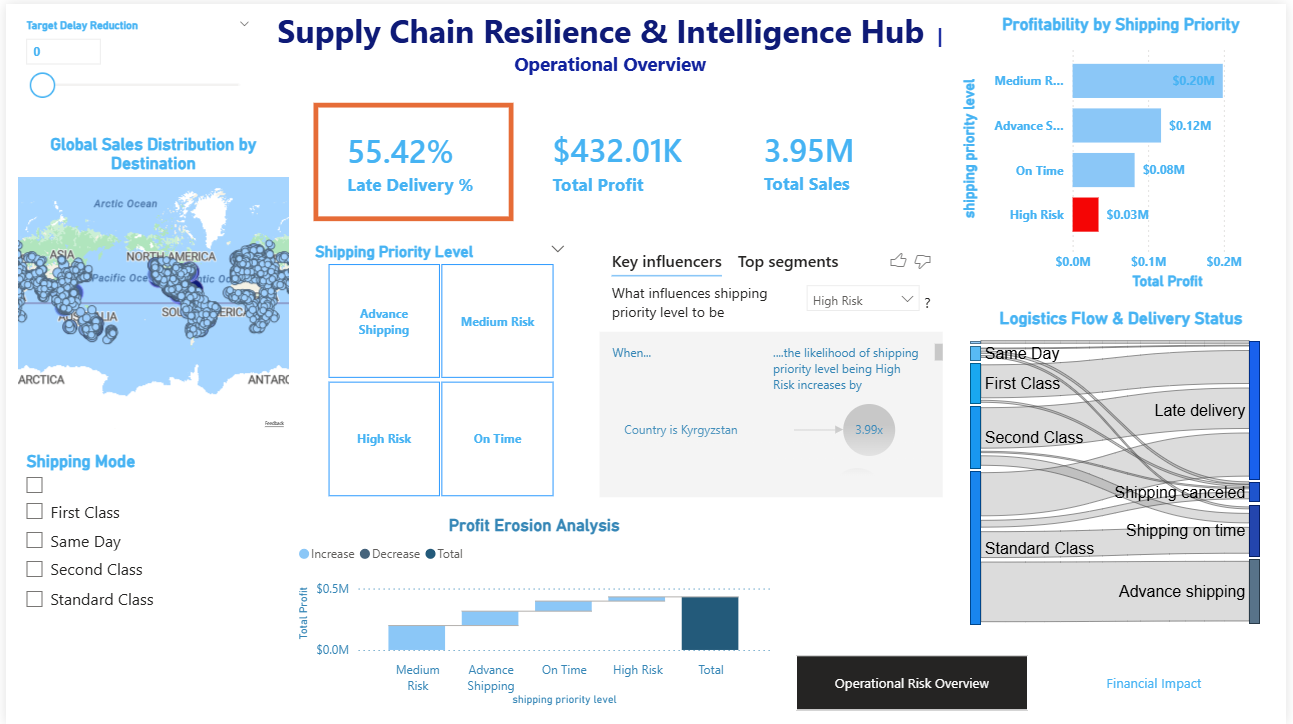

The dashboard page shown, as its layout file describes it:
{"tool":"powerbi","page":{"name":"Operational Risk Overview","canvas":[1280,720],"ordinal":0},"visuals":[{"type":"cardVisual","fields":{"Data":["Master_SupplyChain_Project (2).Total Sales"]},"box":[728.6,97.1,212.9,118.6],"z":0},{"type":"cardVisual","title":"Total Profit","fields":{"Data":["Master_SupplyChain_Project (2).Total Profit"]},"box":[517.1,97.1,198.6,120],"z":1000},{"type":"cardVisual","fields":{"Data":["Master_SupplyChain_Project (2).Late Delivery %"]},"box":[307.1,98.6,200,118.6],"z":2000},{"type":"azureMap","title":"Global Sales Distribution by Destination","fields":{"Y":["Master_SupplyChain_Project (2).latitude_dest"],"X":["Master_SupplyChain_Project (2).longitude_dest"],"Size":["Master_SupplyChain_Project (2).Total Sales"]},"box":[7.8,130,280,300],"z":3000},{"type":"slicer","fields":{"Values":["Master_SupplyChain_Project (2).shipping_mode"]},"box":[7.1,442.9,258.6,264.3],"z":4000},{"type":"slicer","fields":{"Values":["Master_SupplyChain_Project (2).shipping_priority_level"]},"box":[296.7,233.3,275,265],"z":5000},{"type":"textbox","box":[265.7,0,675.7,84.3],"z":6000},{"type":"clusteredBarChart","title":"Profitability by Shipping Priority","fields":{"Category":["Master_SupplyChain_Project (2).shipping_priority_level"],"Y":["Master_SupplyChain_Project (2).Total Profit"]},"box":[950,10,330,280],"z":7000},{"type":"keyDriversVisual","fields":{"Target":["Master_SupplyChain_Project (2).shipping_priority_level"],"ExplainBy":["Master_SupplyChain_Project (2).category_name","Master_SupplyChain_Project (2).order_country_en"]},"box":[588.6,232.9,352.9,265.7],"z":8000},{"type":"sankey02300D1BE6F5427989F3DE31CCA9E0F32020","title":"Logistics Flow & Delivery Status","fields":{"Source":["Master_SupplyChain_Project (2).shipping_mode"],"Destination":["Master_SupplyChain_Project (2).delivery_status"],"Weight":["Master_SupplyChain_Project (2).Total Profit"]},"box":[950,303.3,330,335],"z":9000},{"type":"slicer","fields":{"Values":["Target Delay Reduction.Target Delay Reduction"]},"box":[7.1,10,248.6,107.1],"z":10000},{"type":"pageNavigator","box":[790,651.4,475.7,55.7],"z":11000},{"type":"waterfallChart","title":"Profit Erosion Analysis","fields":{"Category":["Master_SupplyChain_Project (2).shipping_priority_level"],"Y":["Master_SupplyChain_Project (2).Total Profit"]},"box":[287.1,511.4,481.4,195.7],"z":12000}]}

Visuals, with their boxes in screenshot pixels (x1, y1, x2, y2), scaled from the page's 1280x720 canvas onto the 1293x724 screenshot:
cardVisual - Master_SupplyChain_Project (2).Total Sales: crop(736, 98, 951, 217)
"Total Profit" cardVisual: crop(522, 98, 723, 218)
cardVisual - Master_SupplyChain_Project (2).Late Delivery %: crop(310, 99, 512, 218)
"Global Sales Distribution by Destination" azureMap: crop(8, 131, 291, 432)
slicer - Master_SupplyChain_Project (2).shipping_mode: crop(7, 445, 268, 711)
slicer - Master_SupplyChain_Project (2).shipping_priority_level: crop(300, 235, 578, 501)
textbox: crop(268, 0, 951, 85)
"Profitability by Shipping Priority" clusteredBarChart: crop(960, 10, 1292, 292)
keyDriversVisual - Master_SupplyChain_Project (2).shipping_priority_level x Master_SupplyChain_Project (2).category_name: crop(595, 234, 951, 501)
"Logistics Flow & Delivery Status" sankey02300D1BE6F5427989F3DE31CCA9E0F32020: crop(960, 305, 1292, 642)
slicer - Target Delay Reduction.Target Delay Reduction: crop(7, 10, 258, 118)
pageNavigator: crop(798, 655, 1279, 711)
"Profit Erosion Analysis" waterfallChart: crop(290, 514, 776, 711)
